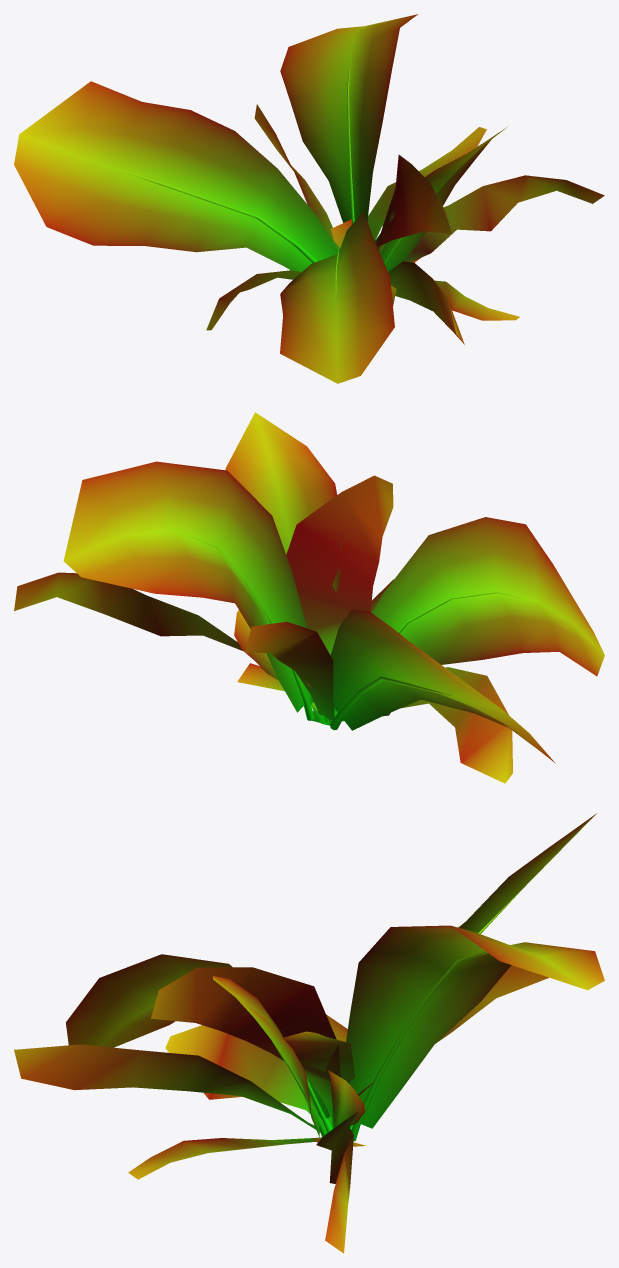
The model's file is Silver Lady Fern_LOD1_Var4_ubolejkia.fbx.
The picture shows the model from 3 angles, top to bottom: view 1: azimuth 30°, elevation 25°; view 2: azimuth 150°, elevation 25°; view 3: azimuth 270°, elevation 25°; orthographic projection. The views are drawn at different scales.
Visible parts, largest first — view 1: _8090_Var4_LOD1; view 2: _8090_Var4_LOD1; view 3: _8090_Var4_LOD1.
Boxes of the visible parts, x1,y1,x2,y2 form: _8090_Var4_LOD1: [14, 14, 604, 383]; _8090_Var4_LOD1: [14, 412, 604, 783]; _8090_Var4_LOD1: [14, 813, 604, 1253].
Bounding box in the file's own units: 134 × 56.98 × 109.
